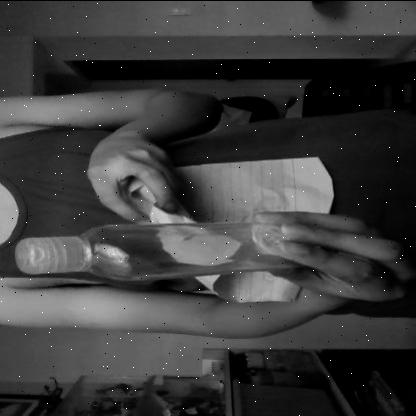Plastic Bottle: (14, 217, 343, 283)
